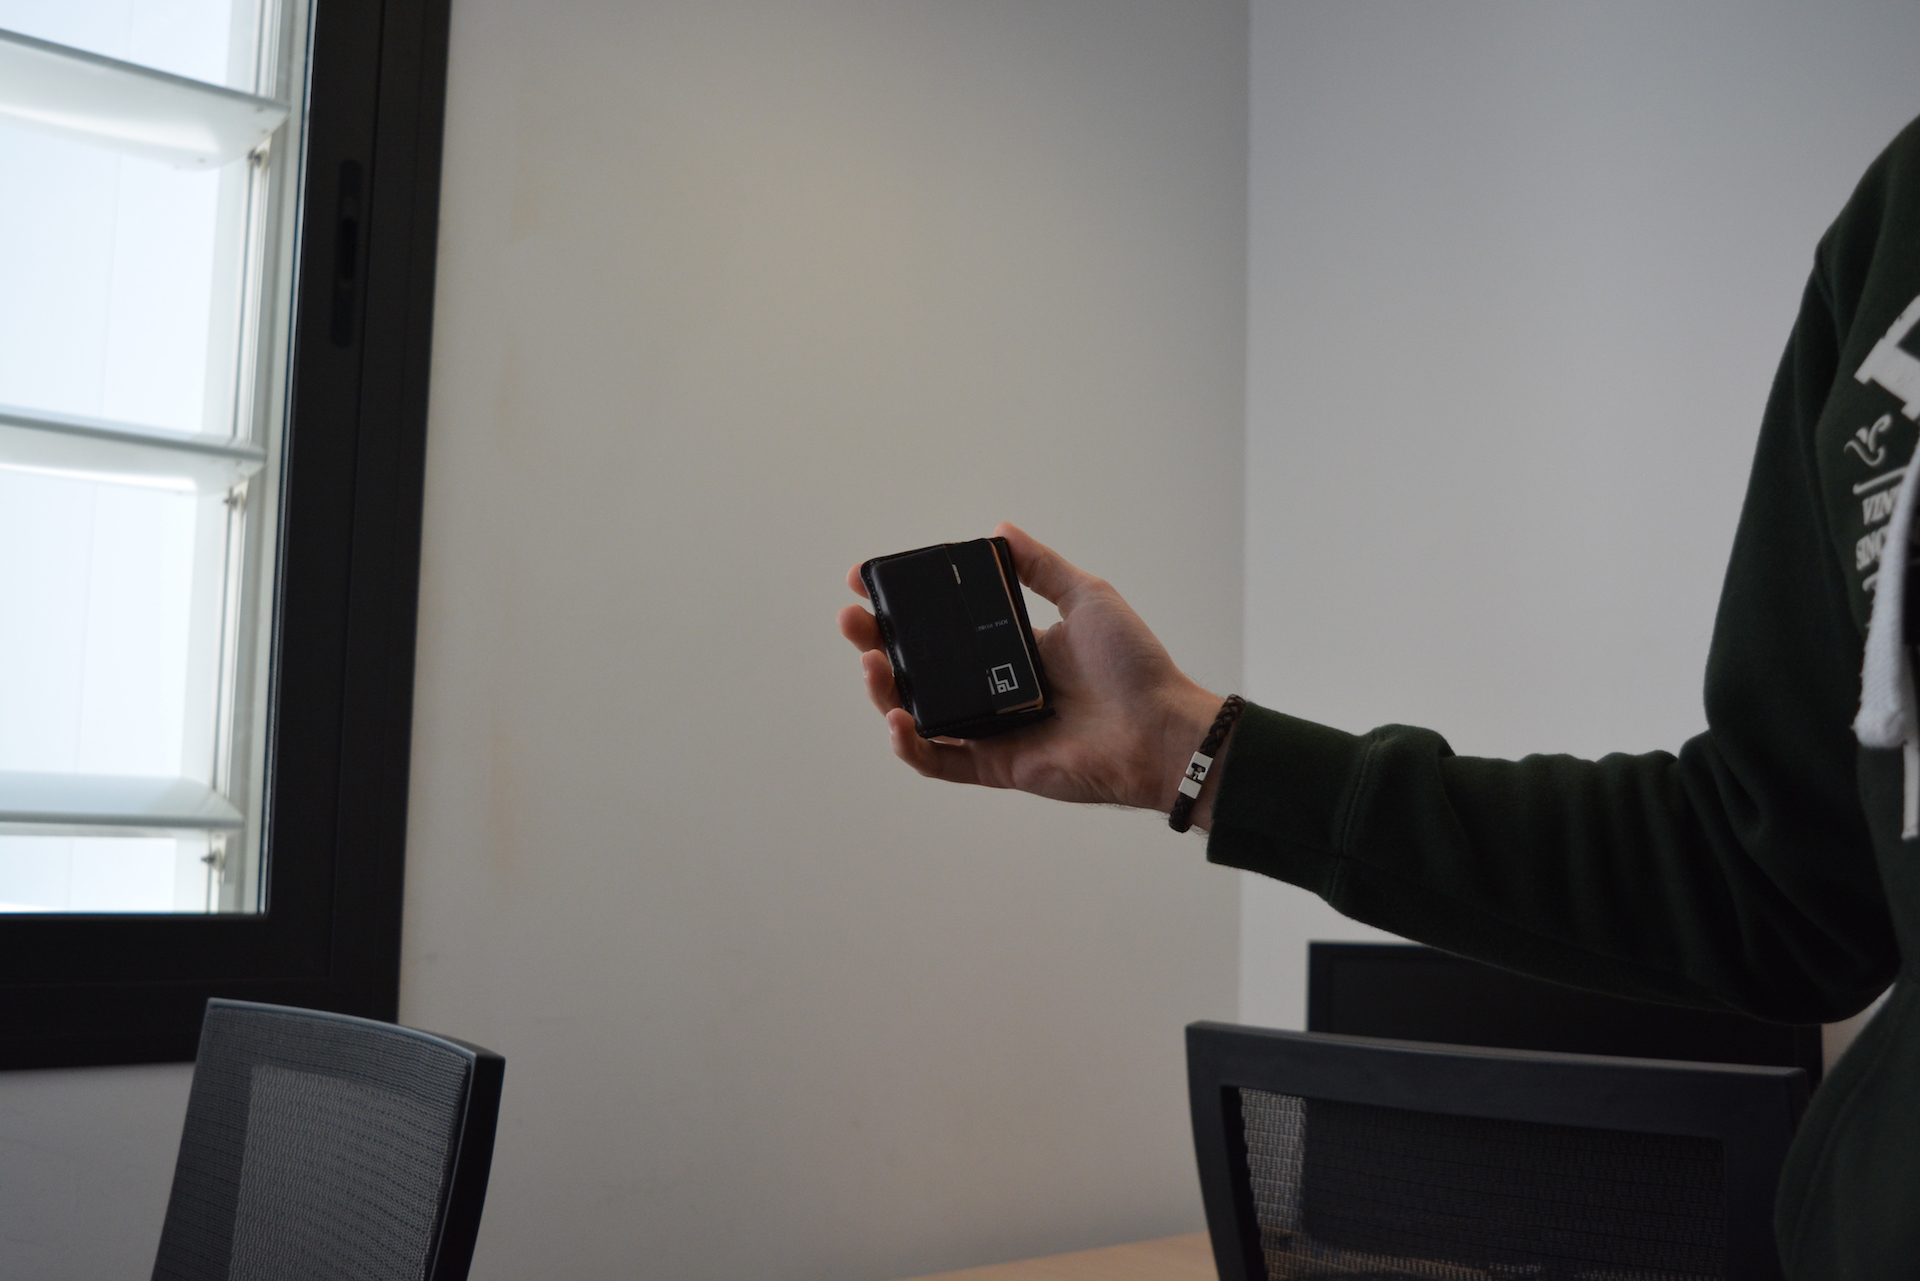monedero: (856, 535, 1058, 746)
